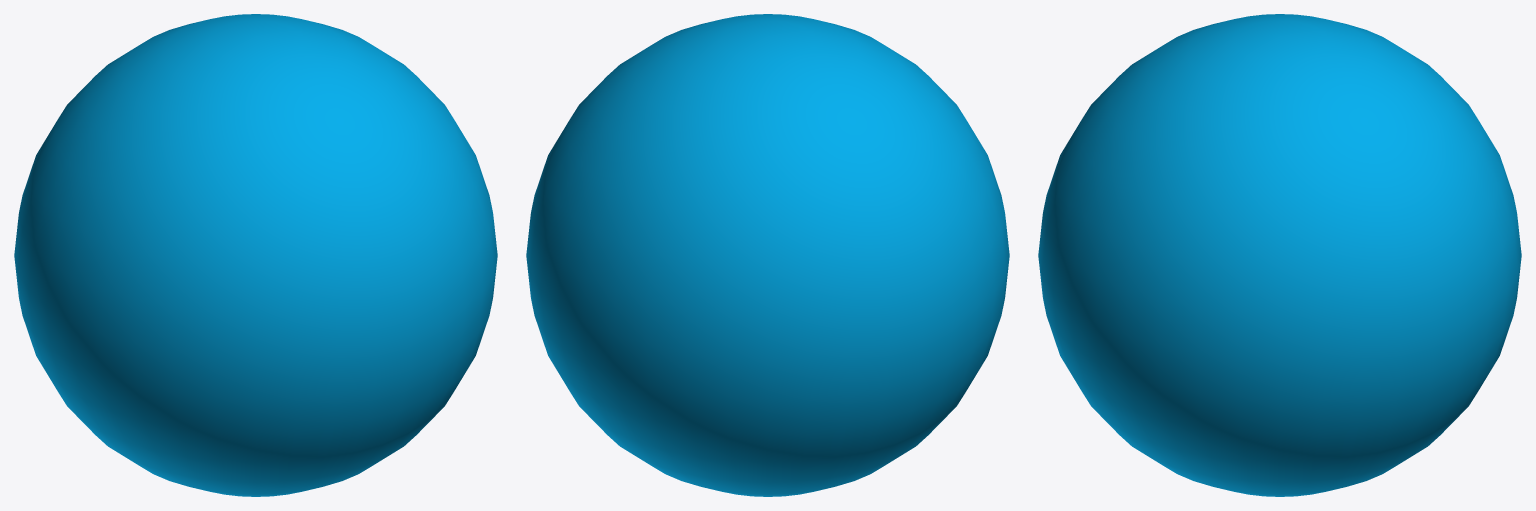
File: original ball.fbx
3 renders of one model, left to right at view 1: azimuth 30°, elevation 25°; view 2: azimuth 150°, elevation 25°; view 3: azimuth 270°, elevation 25°, orthographic.
Parts seen in each view (by area): view 1: Sphere; view 2: Sphere; view 3: Sphere.
Part boxes in pixels (x1,y1,x2,y2): Sphere: [14, 14, 497, 496]; Sphere: [526, 14, 1009, 496]; Sphere: [1038, 14, 1521, 496].
Size of the model in its own units: 93.32 by 93.32 by 93.32.
